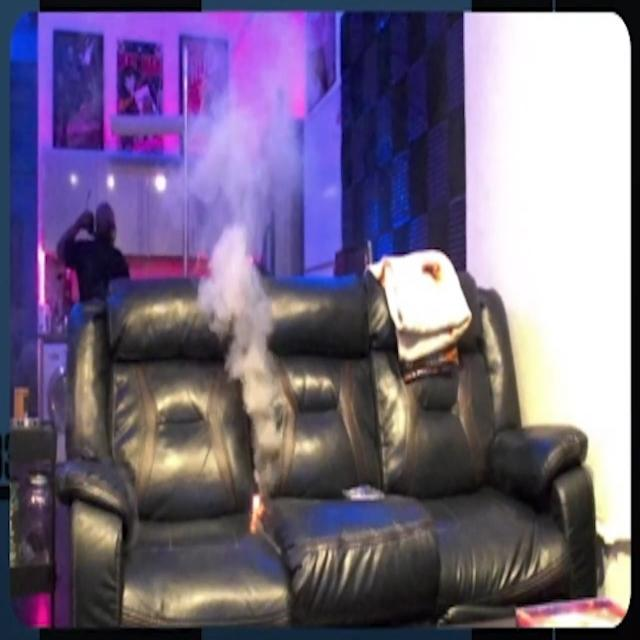Fire: (250, 491, 262, 532)
Smoke: (196, 19, 296, 466)
